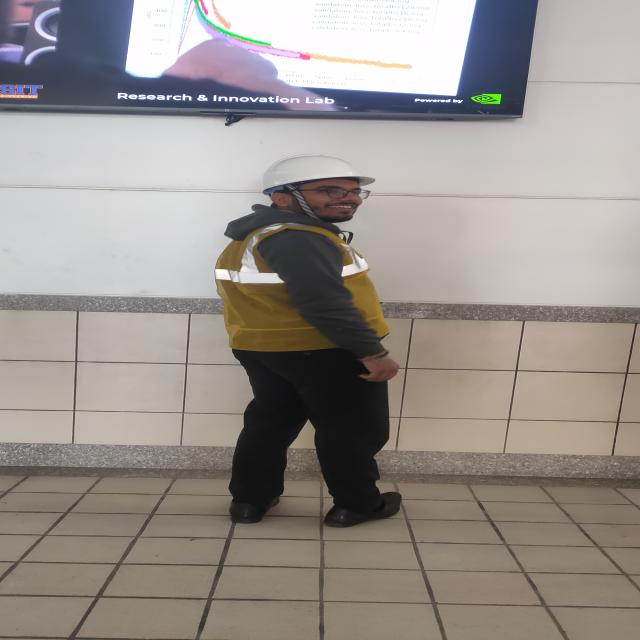safe: (215, 154, 388, 526)
